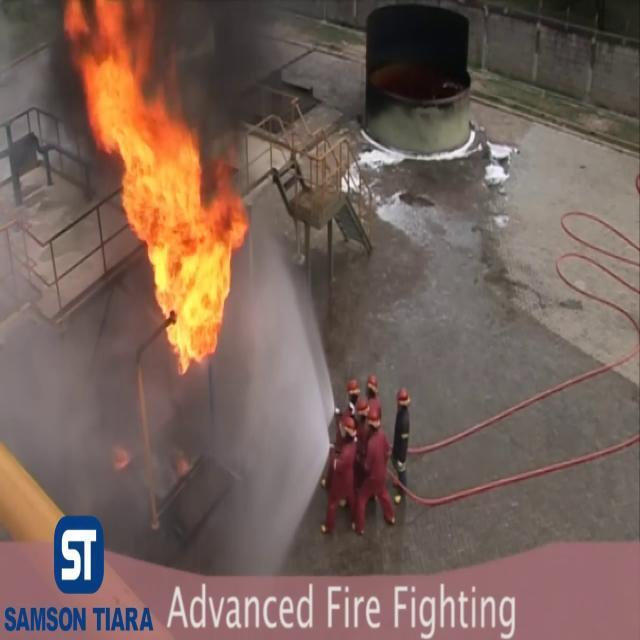Fire: (68, 2, 248, 376)
